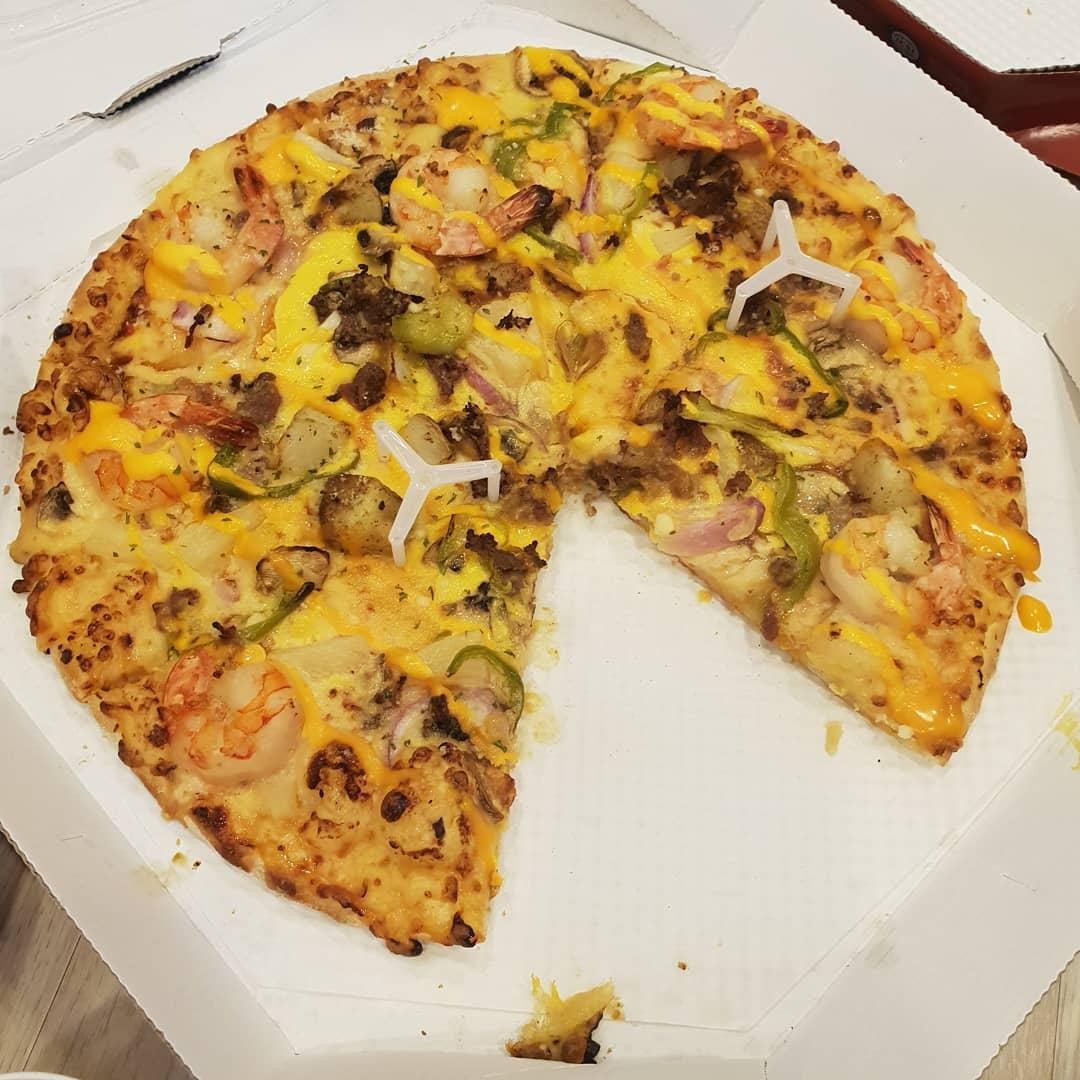Pizza: (22, 43, 1032, 922)
